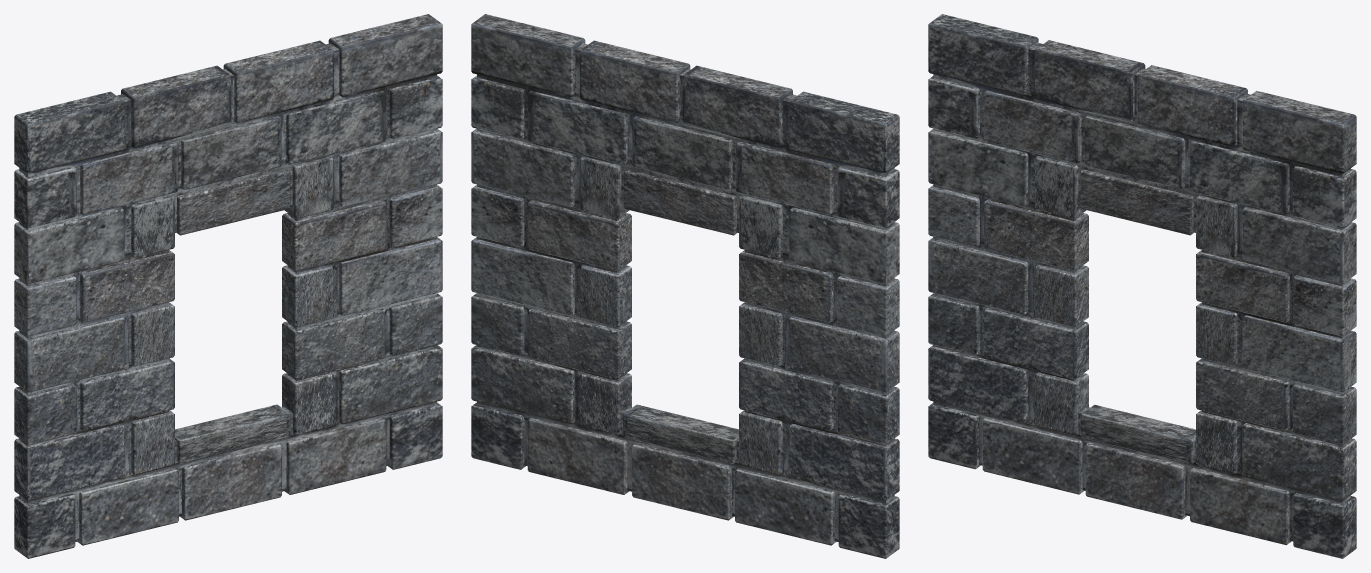
The model's file is WallBrickWindowB.fbx.
The picture shows the model from 3 angles, left to right: view 1: azimuth 30°, elevation 25°; view 2: azimuth 150°, elevation 25°; view 3: azimuth 330°, elevation 25°; orthographic projection.
Visible parts, largest first — view 1: WallBrickWindowB; view 2: WallBrickWindowB; view 3: WallBrickWindowB.
Boxes of the visible parts, x1,y1,x2,y2 form: WallBrickWindowB: [14, 14, 442, 558]; WallBrickWindowB: [471, 14, 899, 558]; WallBrickWindowB: [928, 14, 1356, 558].
Size of the model in its own units: 374 by 374 by 22.
